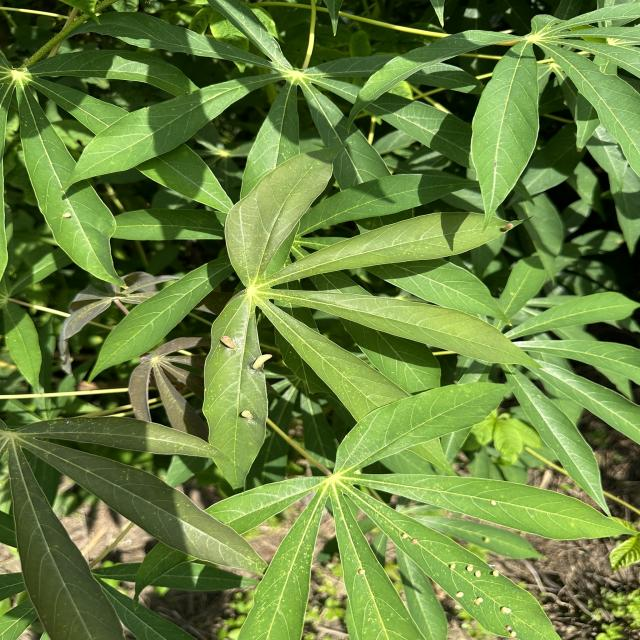Mosca: (449, 560, 505, 583), (502, 598, 530, 639), (450, 587, 491, 613), (245, 346, 276, 377), (210, 331, 240, 359), (52, 201, 79, 229), (391, 530, 426, 550), (347, 561, 373, 584), (227, 404, 254, 424), (485, 494, 505, 510), (481, 531, 499, 547), (498, 217, 520, 230)
